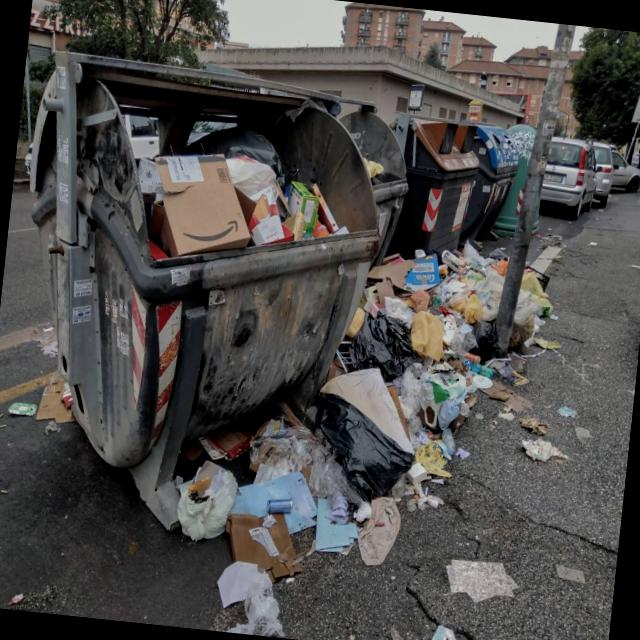garbage: (0, 43, 574, 629)
